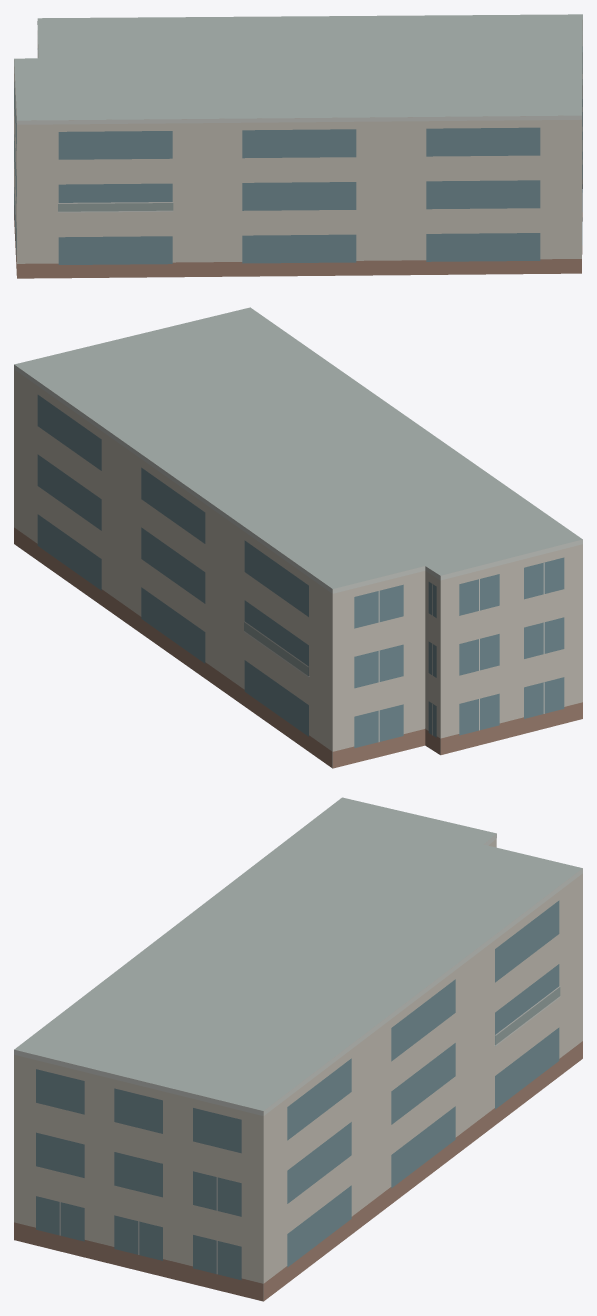
The model's file is survey-upis-32857238.glb.
The picture shows the model from 3 angles, top to bottom: view 1: azimuth 30°, elevation 25°; view 2: azimuth 150°, elevation 25°; view 3: azimuth 270°, elevation 25°; orthographic projection. The views are drawn at different scales.
Parts seen in each view (by area): view 1: survey-upis-32857238.tmp; view 2: survey-upis-32857238.tmp; view 3: survey-upis-32857238.tmp.
Boxes of the visible parts, <box> form: survey-upis-32857238.tmp: <box>14,14,582,278</box>; survey-upis-32857238.tmp: <box>14,307,582,768</box>; survey-upis-32857238.tmp: <box>14,797,582,1301</box>.
Bounding box in the file's own units: 32.33 × 9.15 × 24.78.
